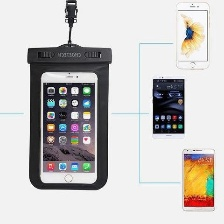phone: (37, 66, 103, 187), (146, 70, 189, 142), (173, 0, 211, 71), (179, 145, 218, 214)
